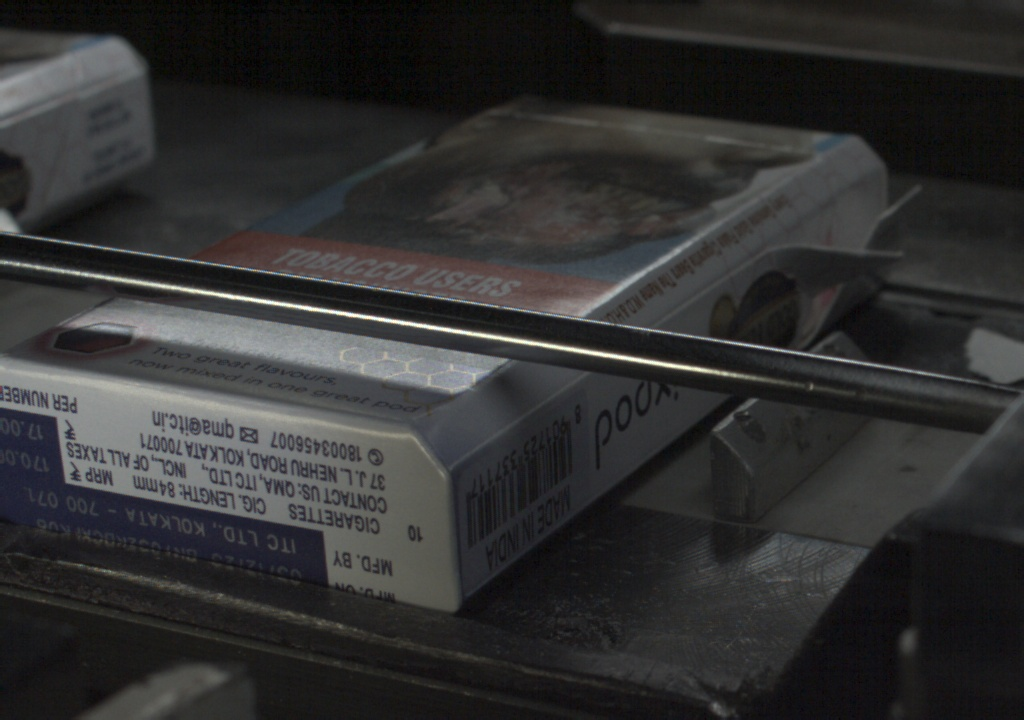g_bottom: (1, 361, 459, 611)
g_label: (3, 482, 327, 585)
g_lmiter: (514, 375, 581, 423), (446, 423, 514, 469), (664, 277, 730, 321)
ng_lmiter: (763, 218, 844, 276)
ng_miter: (848, 170, 914, 236)
price: (1, 413, 60, 481)
